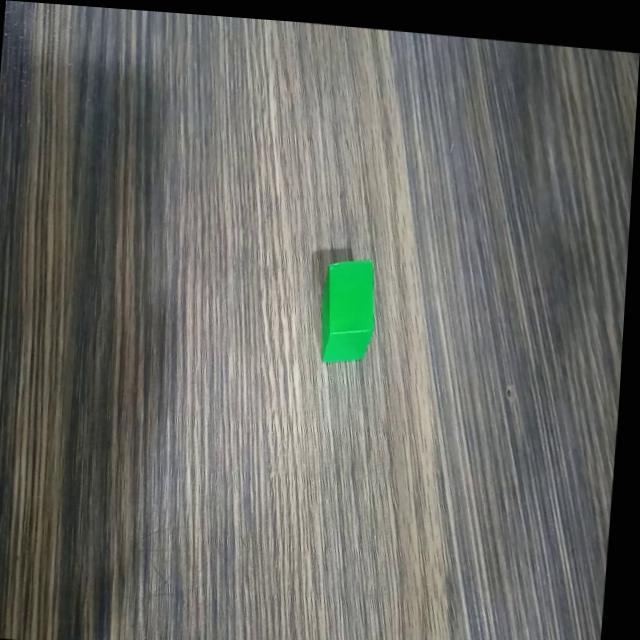cube: (318, 243, 385, 367)
